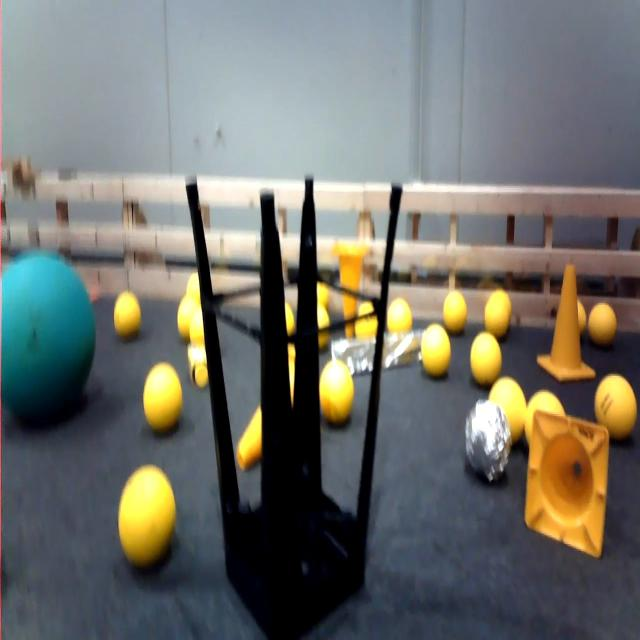fuel: (113, 458, 181, 574), (582, 366, 640, 444), (140, 362, 188, 435), (317, 356, 357, 434), (489, 366, 528, 442), (524, 389, 570, 440), (420, 316, 456, 381), (585, 297, 622, 356), (112, 286, 147, 347), (470, 329, 503, 391), (170, 294, 206, 348), (481, 288, 516, 342), (351, 298, 382, 346), (383, 295, 412, 346), (440, 287, 469, 332), (313, 300, 332, 348), (180, 273, 201, 306)
